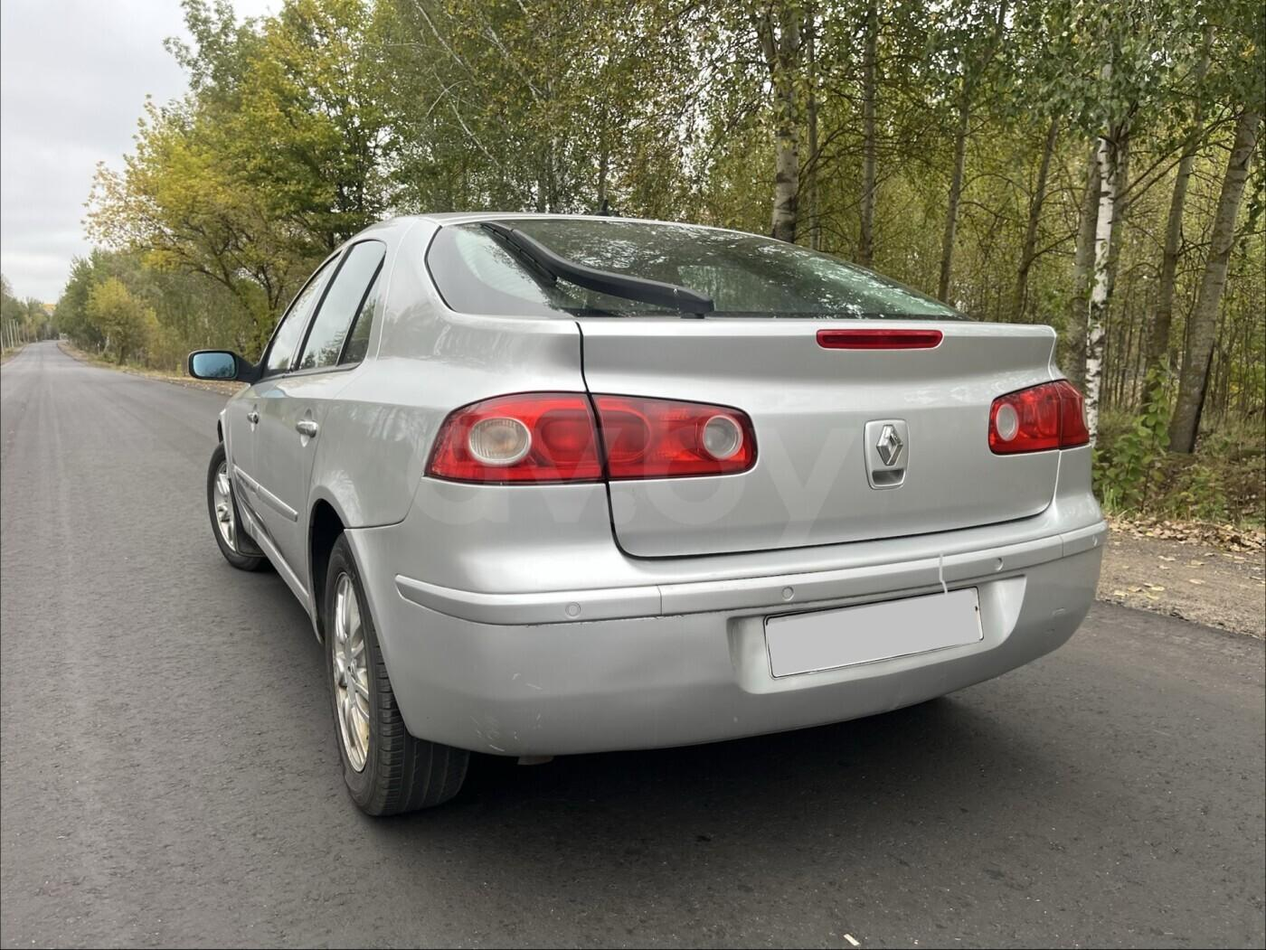Laguna_2005-2007: (195, 198, 1121, 816)
